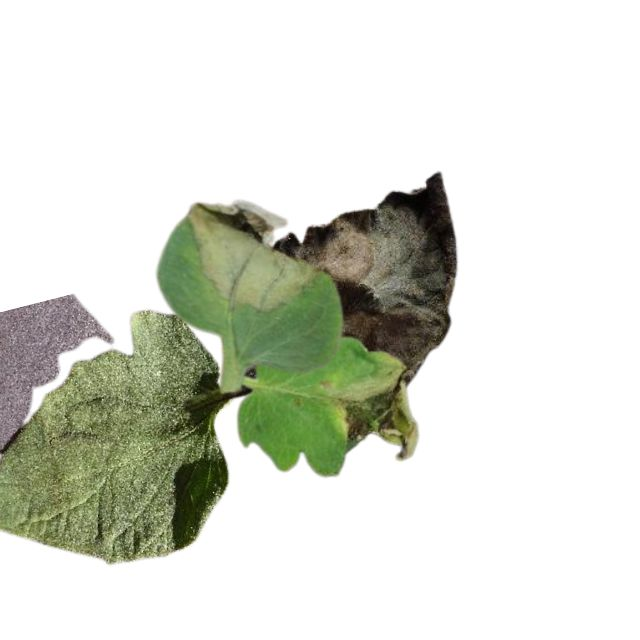Late_blight: (272, 170, 458, 388), (185, 196, 318, 312), (343, 368, 416, 461)
